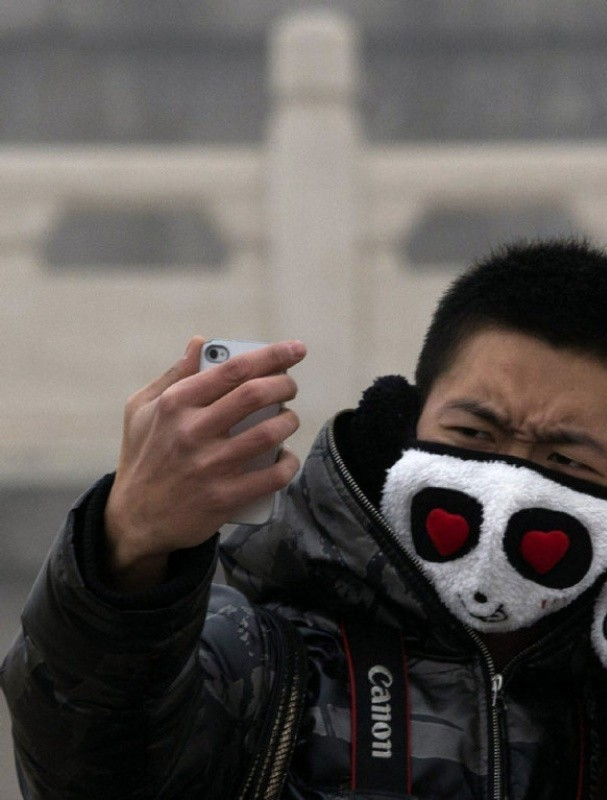with_mask: (409, 312, 607, 633)
